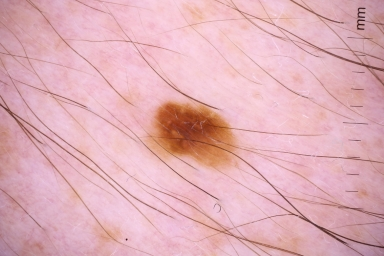melanoma: (128, 86, 258, 178)
